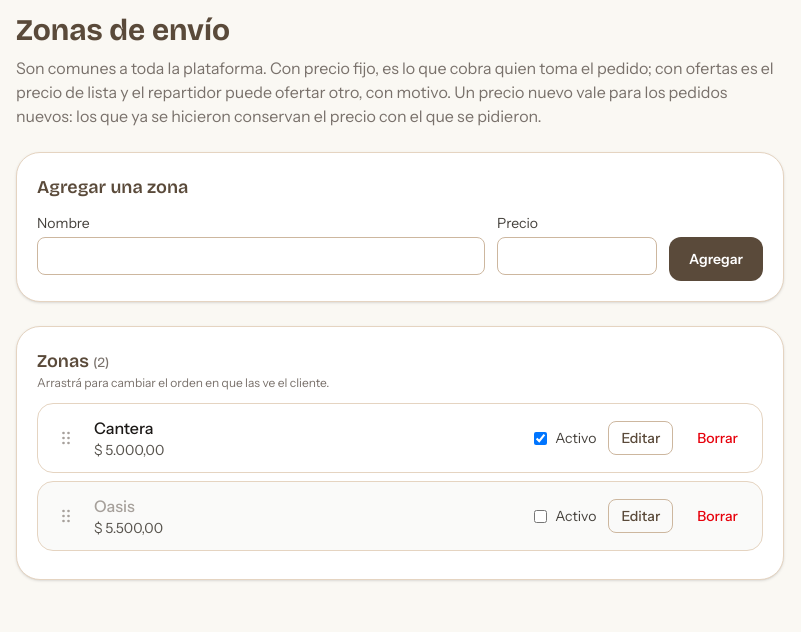
Test case: zonas de la plataforma — ENVIO-56 › no guarda una zona con el nombre repetido ni con un precio inválido
The width and height of the screenshot is (801, 632).
In the field labelled "Nombre": (261, 256) 37,237 -> 485,275, type "cantera"
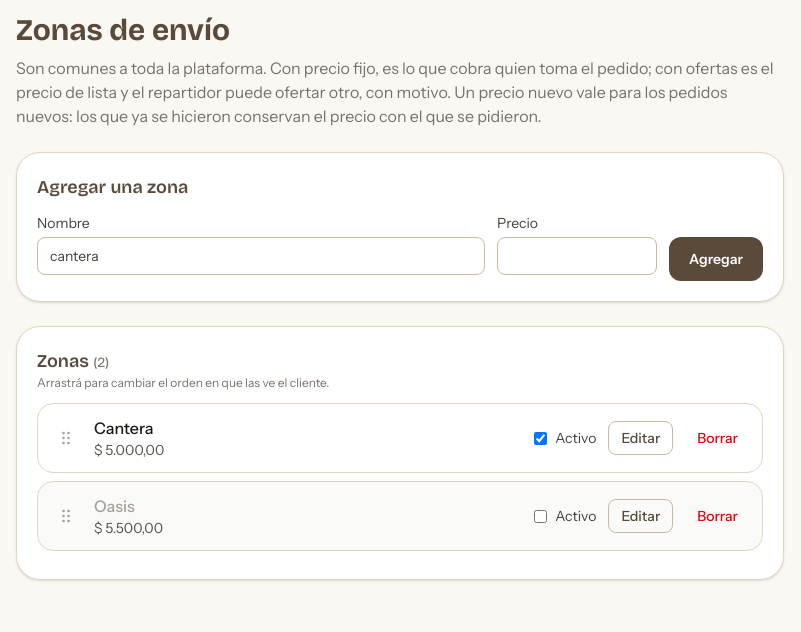
In the field labelled "Precio": (577, 256) 497,237 -> 657,275, type "-1"
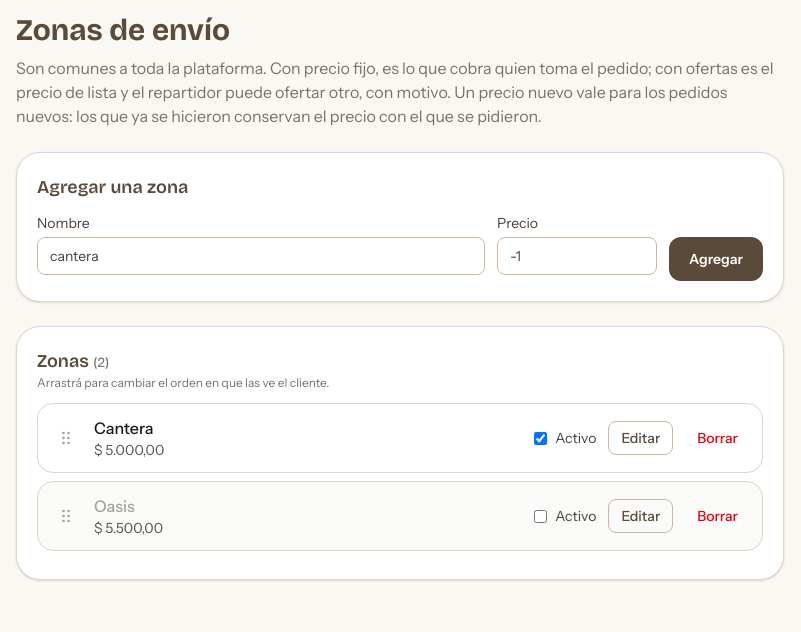
Click the button "Agregar": (716, 259) 669,237 -> 763,281
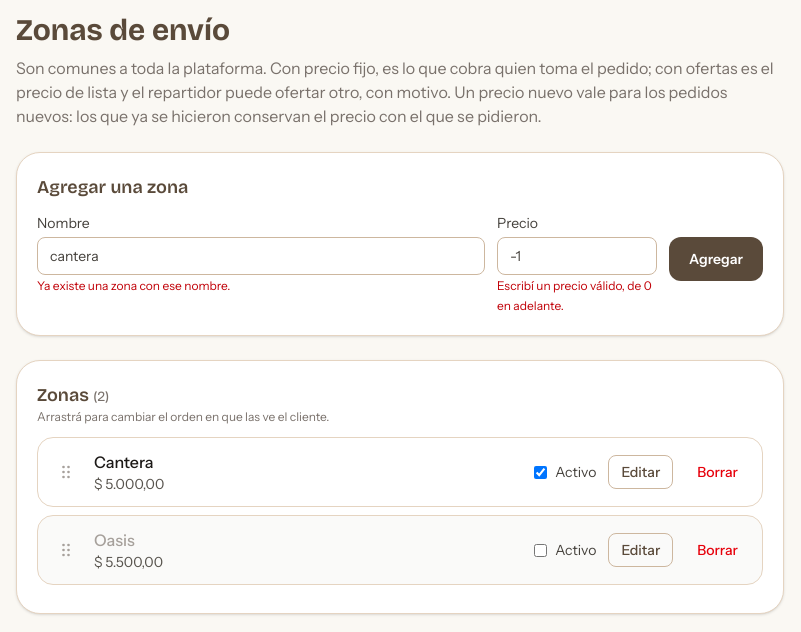
expect the text "Ya existe una zona con ese nombre." is shown: met, box 37,278 -> 230,293
expect the text "Escribí un precio válido, de 0 en adelante." is shown: met, box 497,278 -> 652,313
